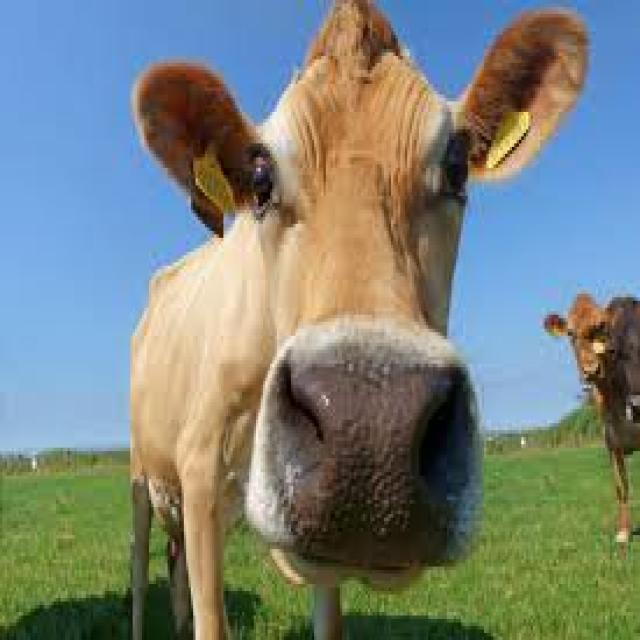cow: (163, 38, 510, 522), (548, 287, 626, 402)
